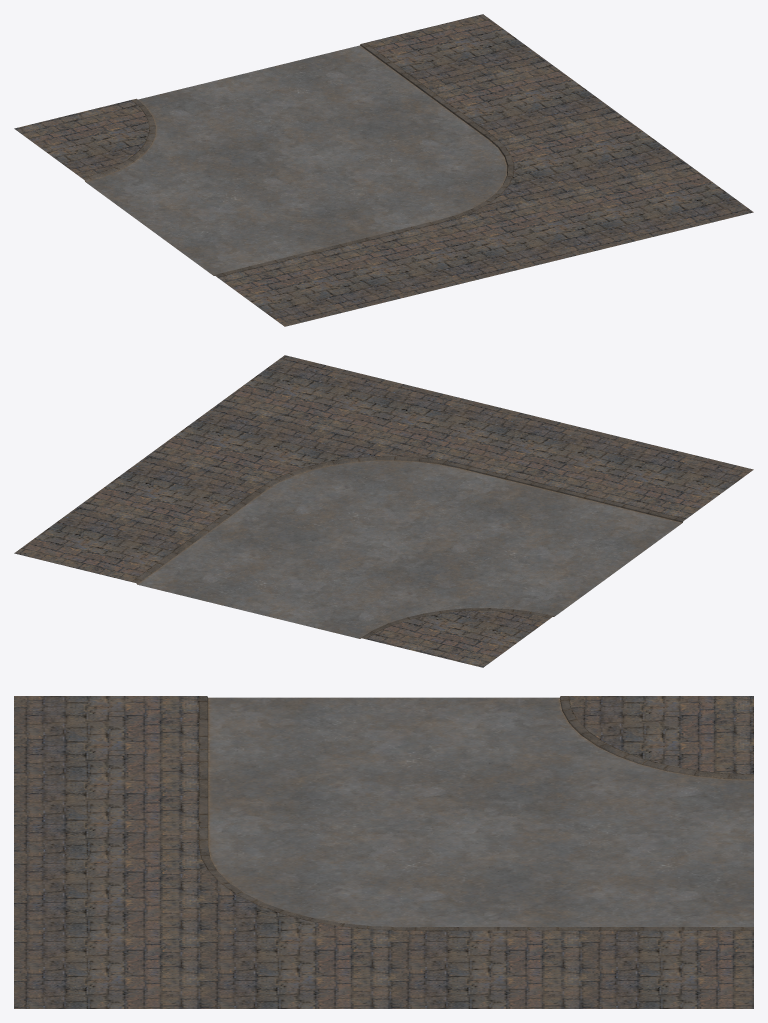
File: hutong_road_l.fbx
3 renders of one model, top to bottom at view 1: azimuth 30°, elevation 25°; view 2: azimuth 150°, elevation 25°; view 3: azimuth 270°, elevation 25°, orthographic. The views are drawn at different scales.
Visible parts, largest first — view 1: hutong_road_l; view 2: hutong_road_l; view 3: hutong_road_l.
Boxes of the visible parts, box(x1,y1,x2,y2) form: hutong_road_l: box(14, 14, 753, 326); hutong_road_l: box(14, 355, 753, 667); hutong_road_l: box(14, 696, 753, 1008).
Bounding box in the file's own units: 800 × 2 × 800.
1 material, 1 textured.
